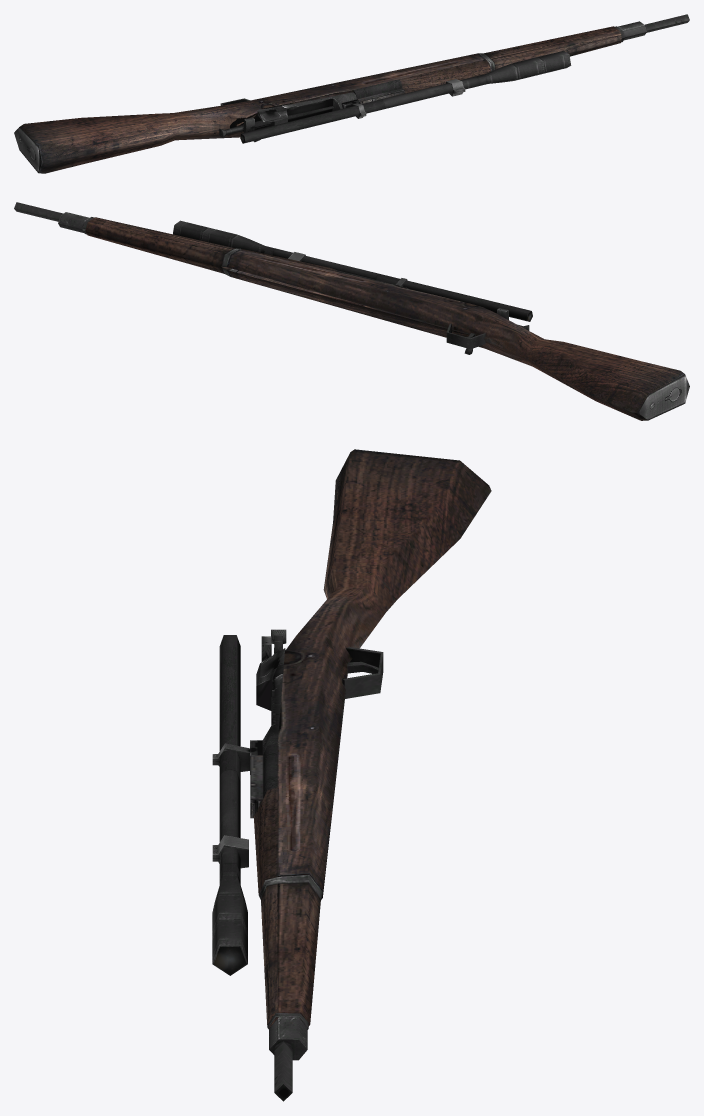
Rendered from weapon_usa_springfield_rifle_scoped_LOD11.obj.
3 views of the same model, one above another, from view 1: azimuth 30°, elevation 25°; view 2: azimuth 150°, elevation 25°; view 3: azimuth 270°, elevation 25° (orthographic). The views are drawn at different scales.
Visible parts, largest first — view 1: TomGroup_2, TomGroup_0, TomGroup_1; view 2: TomGroup_2, TomGroup_1, TomGroup_0; view 3: TomGroup_2, TomGroup_1, TomGroup_0.
Boxes of the visible parts, x1=… form: TomGroup_2: x1=20, y1=26, x2=621, y2=173; TomGroup_0: x1=14, y1=14, x2=689, y2=172; TomGroup_1: x1=240, y1=50, x2=571, y2=143; TomGroup_2: x1=85, y1=217, x2=684, y2=420; TomGroup_1: x1=173, y1=220, x2=532, y2=321; TomGroup_0: x1=14, y1=202, x2=689, y2=420; TomGroup_2: x1=253, y1=449, x2=491, y2=1027; TomGroup_1: x1=212, y1=635, x2=262, y2=975; TomGroup_0: x1=250, y1=629, x2=383, y2=1101.
Size of the model in its own units: 127 by 7.79 by 24.24.
2 materials, 2 textured.
